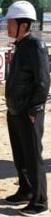boots: (3, 192, 32, 205), (0, 192, 11, 202)
hard-hat: (0, 24, 15, 43)
ppe-suit: (0, 0, 1, 1)
